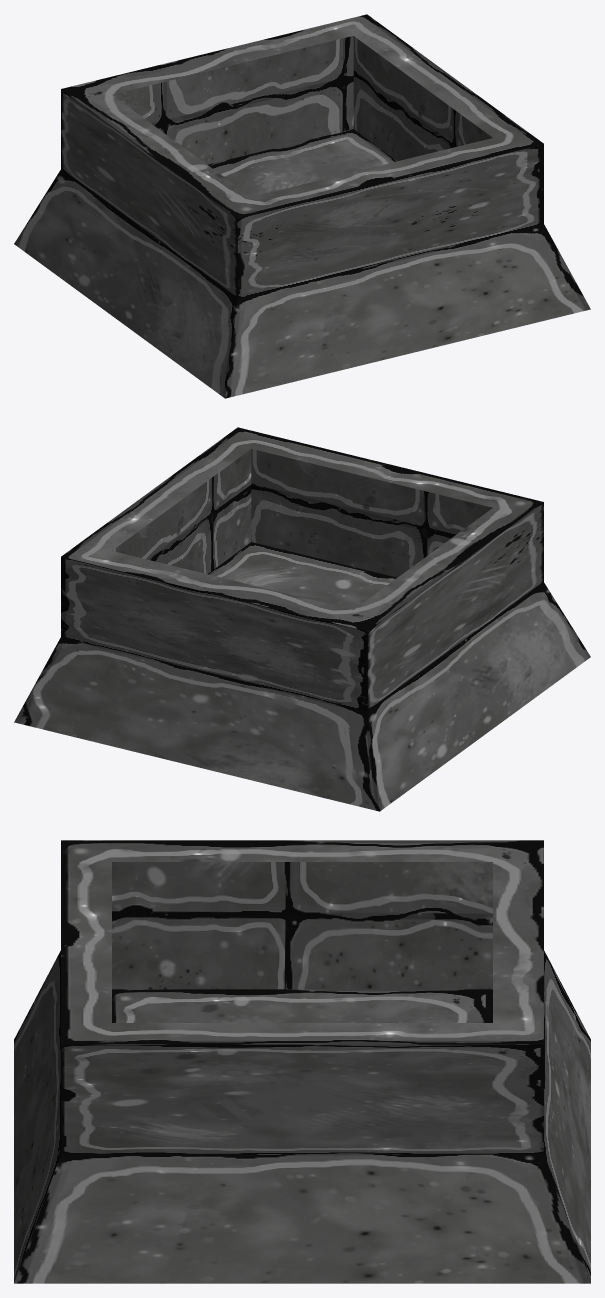
The model's file is pedestal.glb.
3 renders of one model, top to bottom at view 1: azimuth 30°, elevation 25°; view 2: azimuth 150°, elevation 25°; view 3: azimuth 270°, elevation 25°, orthographic. The views are drawn at different scales.
Parts seen in each view (by area): view 1: Cube; view 2: Cube; view 3: Cube.
Boxes of the visible parts, x1,y1,x2,y2 form: Cube: [14, 14, 590, 398]; Cube: [14, 427, 590, 811]; Cube: [14, 840, 590, 1283].
Bounding box in the file's own units: 0.5447 × 0.2282 × 0.5447.
1 material, 1 textured.
